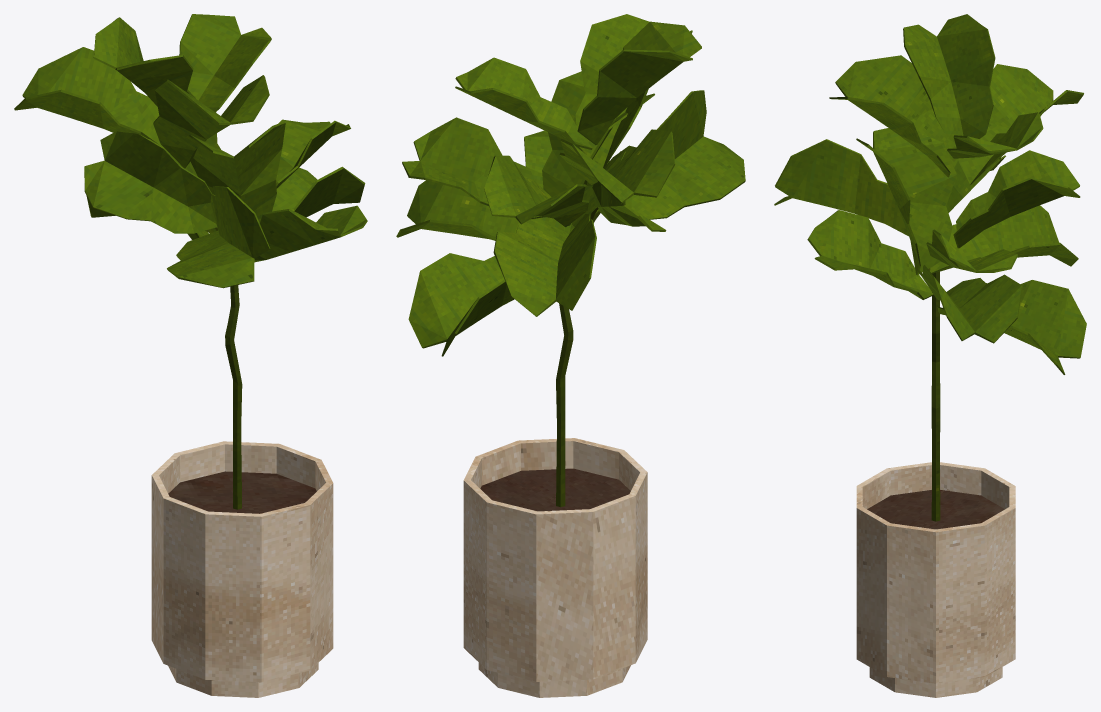
The model's file is plant.fbx.
3 renders of one model, left to right at view 1: azimuth 30°, elevation 25°; view 2: azimuth 150°, elevation 25°; view 3: azimuth 270°, elevation 25°, orthographic. The views are drawn at different scales.
Visible parts, largest first — view 1: FiddleleafFigPottedPlant; view 2: FiddleleafFigPottedPlant; view 3: FiddleleafFigPottedPlant.
Boxes of the visible parts, box(x1,y1,x2,y2) form: FiddleleafFigPottedPlant: box(14, 14, 367, 697); FiddleleafFigPottedPlant: box(396, 14, 745, 697); FiddleleafFigPottedPlant: box(774, 14, 1086, 697).
Bounding box in the file's own units: 72.88 × 152 × 72.
